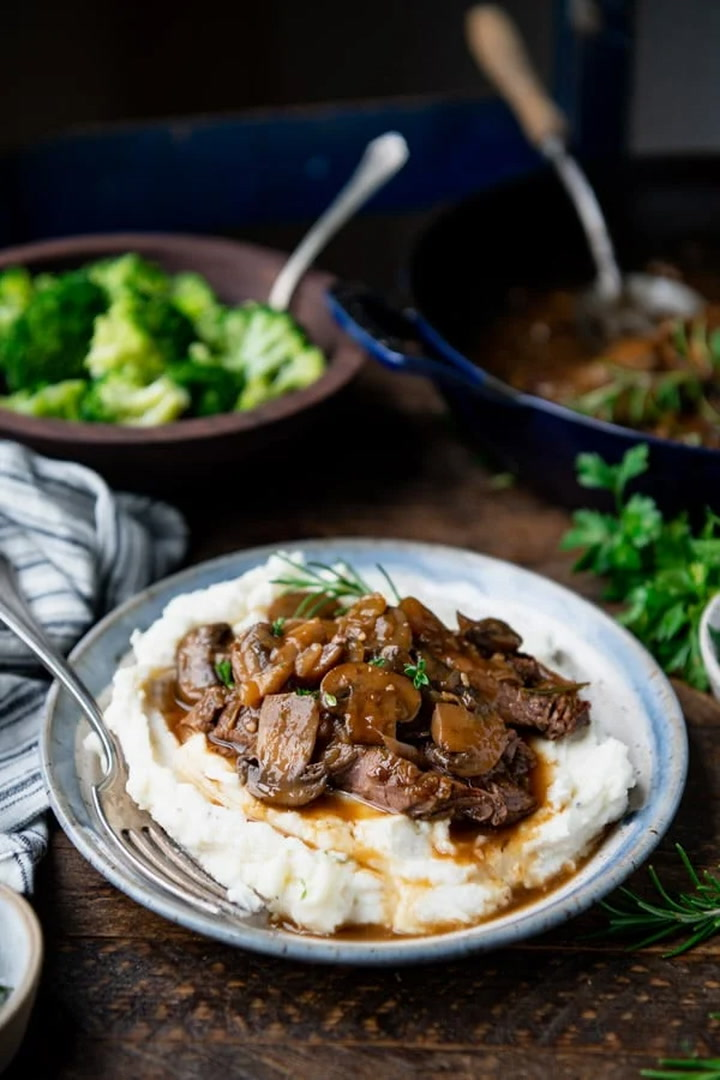beef-round-steak: (144, 589, 594, 827)
